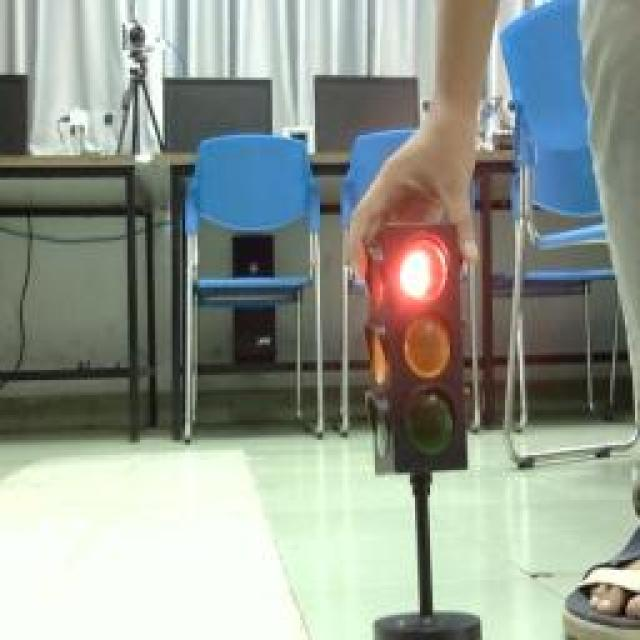-: (395, 233, 455, 311)
